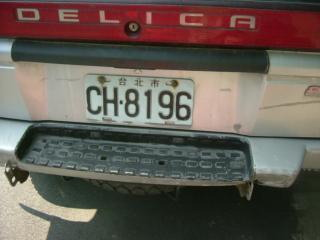plate: (81, 70, 194, 128)
